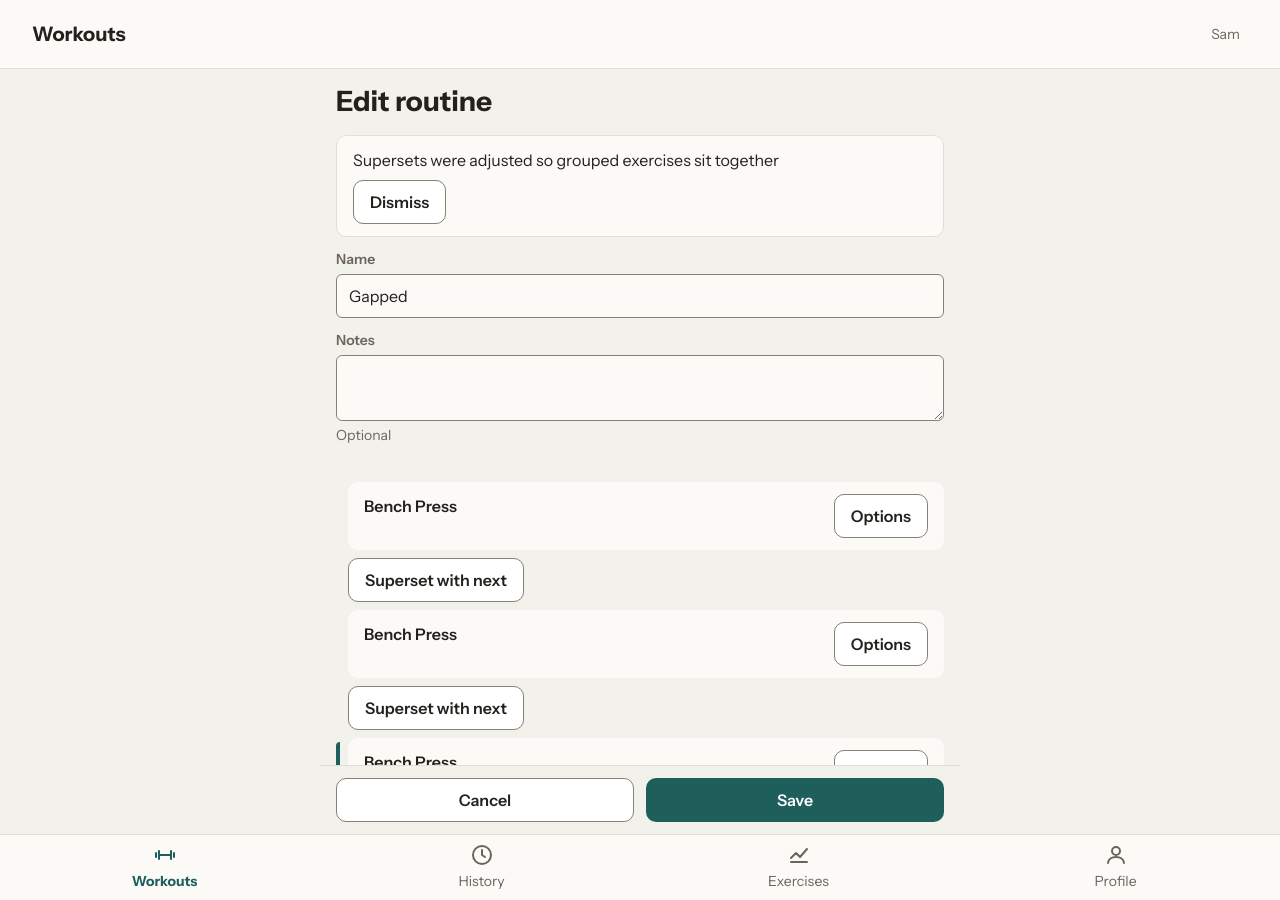
10.0 AC5 — the adjusted-groups notice › shows for a non-contiguous routine and dismisses
Click the button "Dismiss": (400, 202) [353,180,446,224]
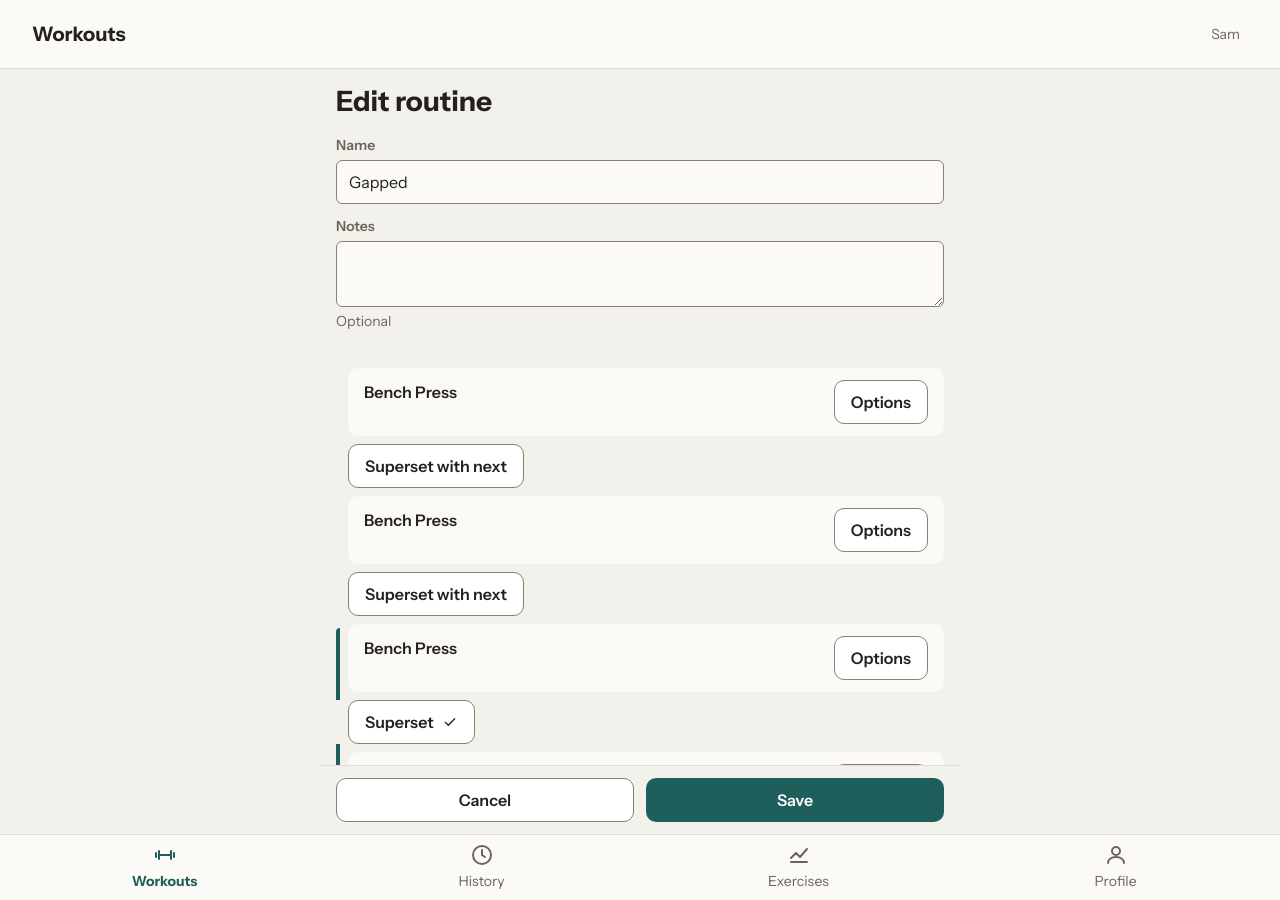
Now the text "Supersets were adjusted so grouped exercises sit together" is gone
